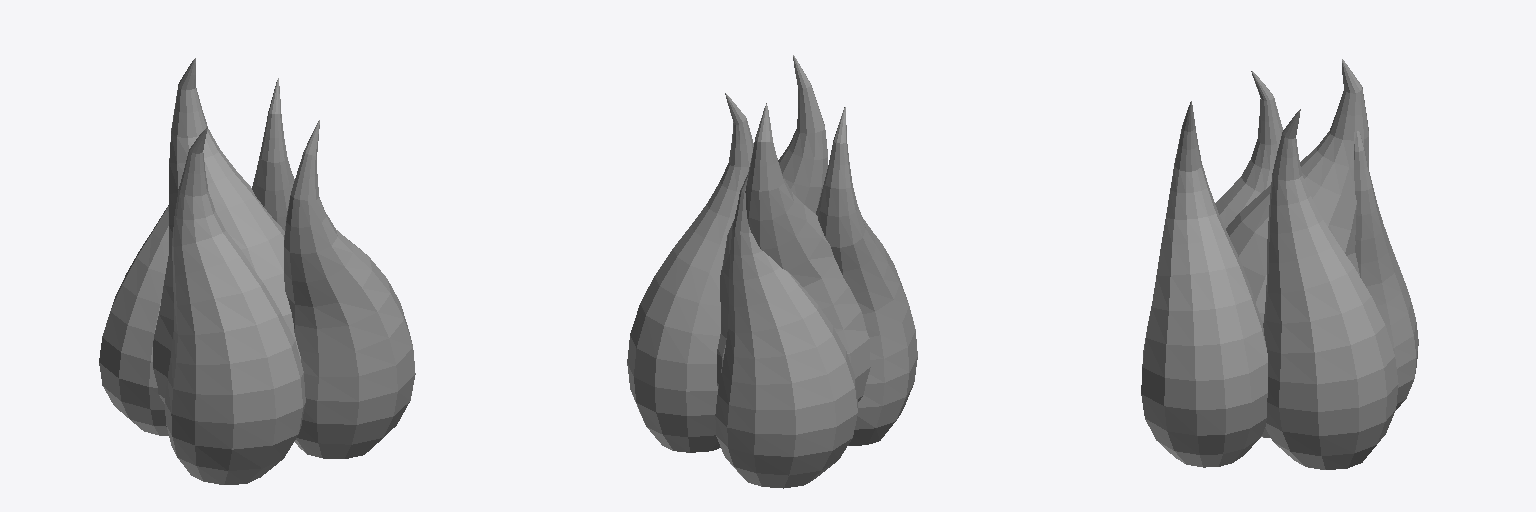
The model's file is resourceFire.obj.
3 renders of one model, left to right at view 1: azimuth 30°, elevation 25°; view 2: azimuth 150°, elevation 25°; view 3: azimuth 270°, elevation 25°, orthographic.
Parts seen in each view (by area): view 1: flame; view 2: flame; view 3: flame.
Part boxes in pixels (x1,y1,x2,y2): flame: (99,58,415,484); flame: (627,55,917,488); flame: (1141,59,1418,469).
Bounding box in the file's own units: 1.24 × 1.9 × 1.31.